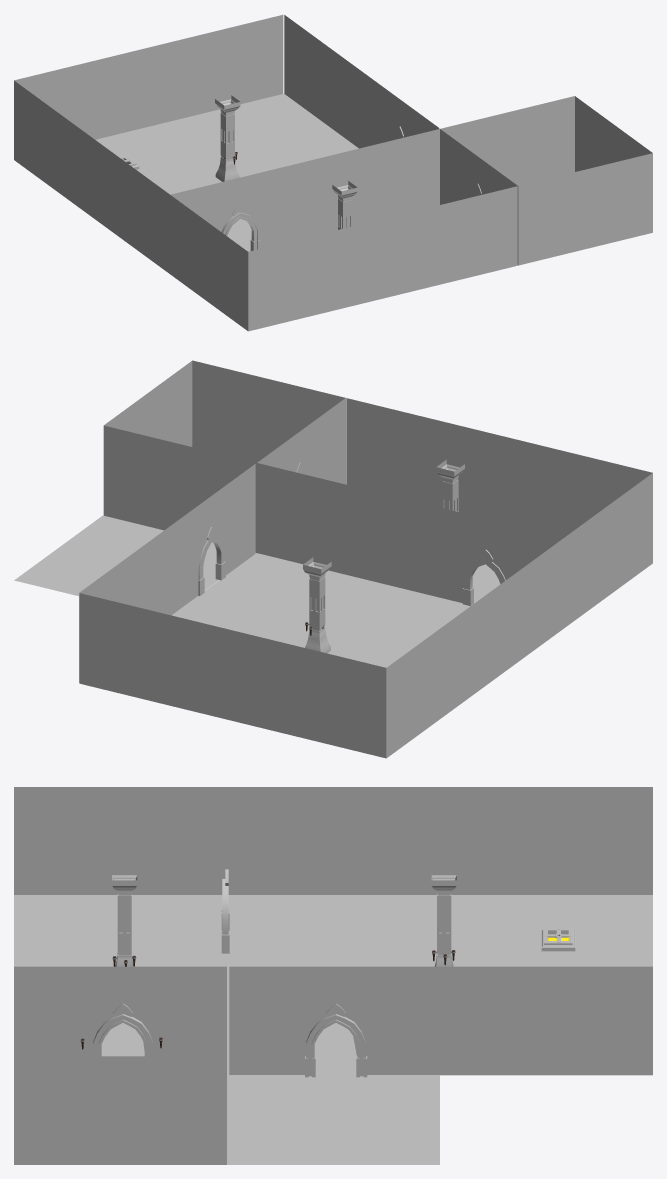
The model's file is assetsss.fbx.
3 views of the same model, one above another, from view 1: azimuth 30°, elevation 25°; view 2: azimuth 150°, elevation 25°; view 3: azimuth 270°, elevation 25° (orthographic). The views are drawn at different scales.
Parts seen in each view (by area): view 1: wall open.007, wall open.003, wall open.005, wall open.009, wall open.004, ground 1.006, wall open.010, wall open.001, wall open.006, wall open.008, wall open.012, wall open.013 (+9 smaller); view 2: wall open.010, wall open.009, wall open.004, wall open.005, ground 1.004, wall open.001, wall open.007, wall open.003, wall open.006, wall open.013, wall open.008, wall open.012 (+11 smaller); view 3: wall open.014, wall open.002, wall open.012, wall open.013, wall open.008, wall open.011, ground 1.007, wall open, ground 1.003, ground 1.002, ground 1.005, ground 1.004 (+7 smaller).
Part boxes in pixels (x1,y1,x2,y2): wall open.007: (248,219,383,331); wall open.003: (518,153,652,265); wall open.005: (383,186,517,298); wall open.009: (149,15,283,126); wall open.004: (305,129,439,237); ground 1.006: (149,94,358,177); wall open.010: (14,47,148,139); wall open.001: (440,96,574,185); wall open.006: (170,162,305,248); wall open.008: (170,195,248,330); wall open.012: (92,138,170,273); wall open.013: (14,80,91,216); wall open.010: (233,630,386,758); wall open.009: (79,593,232,720); wall open.004: (257,463,410,590); wall open.005: (346,398,499,521); ground 1.004: (171,553,409,648); wall open.001: (103,425,256,552); wall open.007: (499,435,652,537); wall open.003: (192,360,345,462); wall open.006: (410,500,563,602); wall open.013: (386,603,475,758); wall open.008: (564,473,652,628); wall open.012: (475,538,563,692); wall open.014: (440,966,652,1075); wall open.002: (14,1056,226,1164); wall open.012: (227,787,439,894); wall open.013: (440,787,652,894); wall open.008: (14,787,226,894); wall open.011: (229,966,439,1074); ground 1.007: (227,1075,439,1164); wall open: (14,966,226,1056); ground 1.003: (227,895,436,984); ground 1.002: (14,895,226,966); ground 1.005: (451,895,652,966); ground 1.004: (227,985,356,1074).
Bounding box in the file's own units: 2398 × 465 × 2400.
